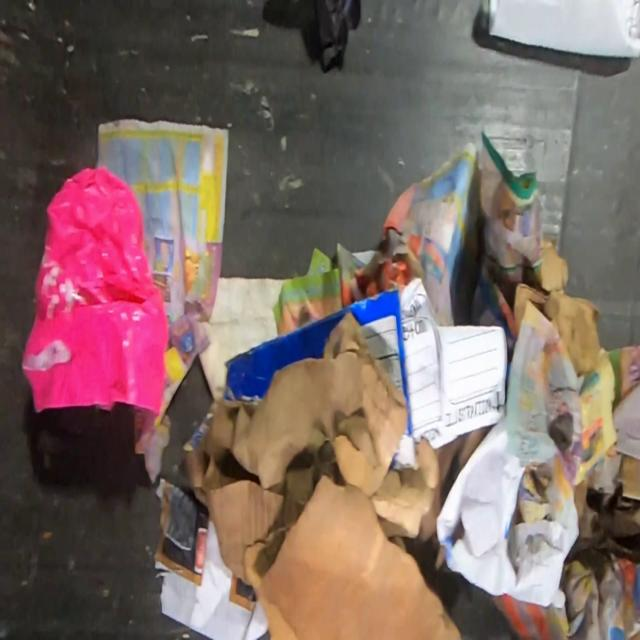cardboard: (182, 311, 497, 640), (512, 234, 602, 377), (564, 453, 640, 585)
soft_plastic: (20, 161, 169, 417), (314, 0, 363, 75)
